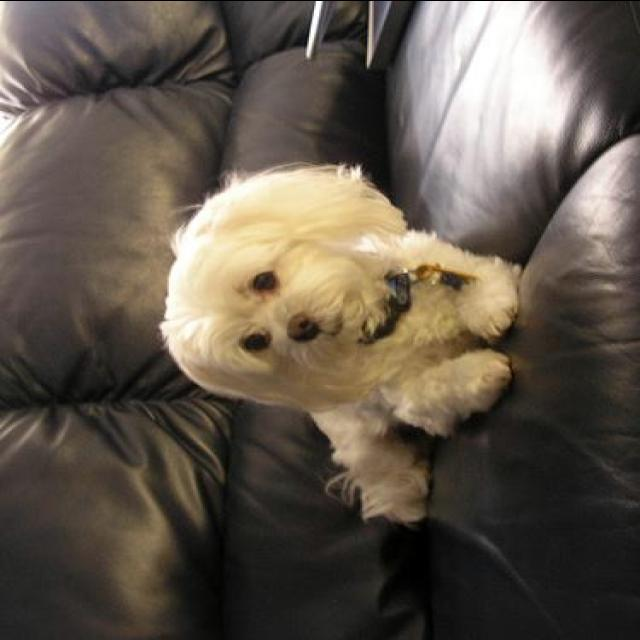maltese_dog: (159, 165, 519, 522)
